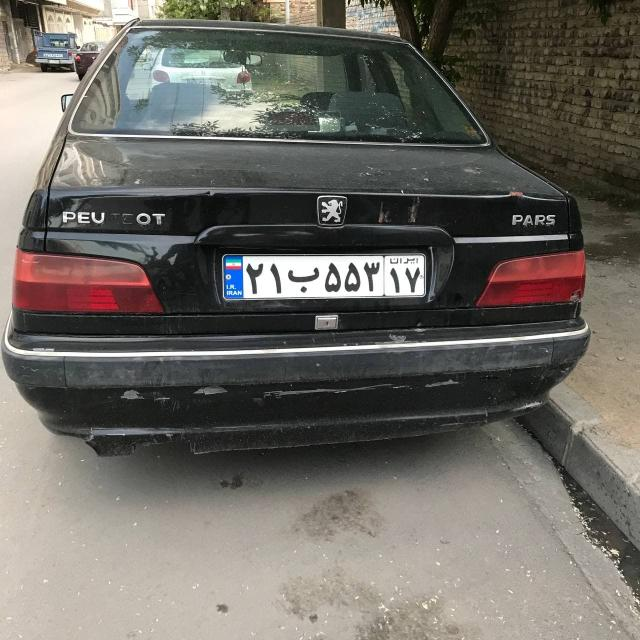Plates: (223, 251, 426, 299)
